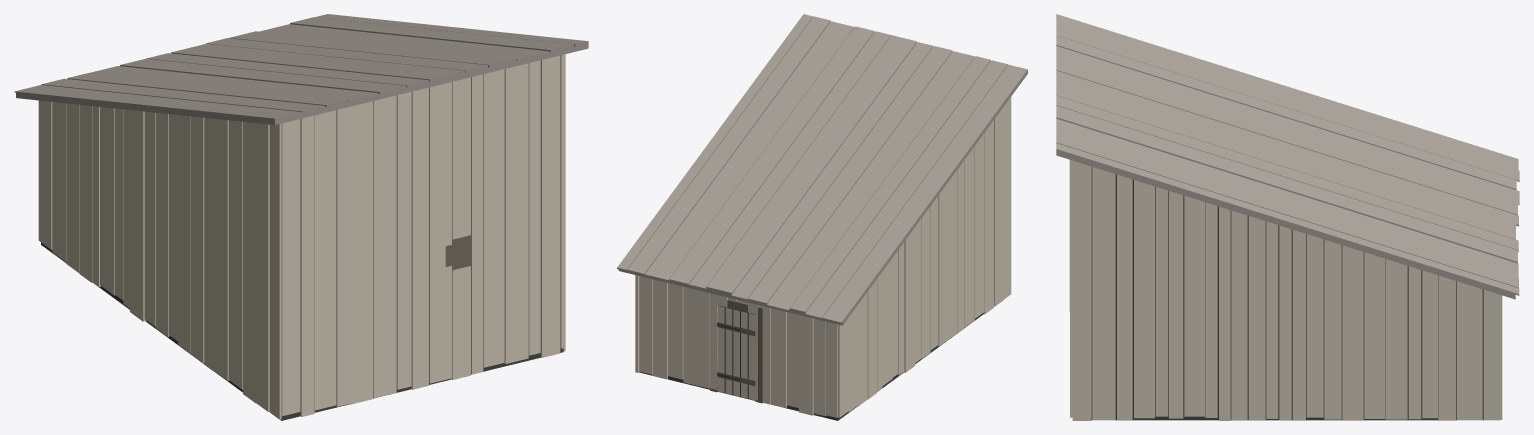
File: recon_1835_blk_west_lake_canal_d2_03__inferred_1835.glb
3 renders of one model, left to right at view 1: azimuth 30°, elevation 25°; view 2: azimuth 150°, elevation 25°; view 3: azimuth 270°, elevation 25°, orthographic. The views are drawn at different scales.
Visible parts, largest first — view 1: recon_1835_blk_west_lake_canal_d2_03__inferred_1835; view 2: recon_1835_blk_west_lake_canal_d2_03__inferred_1835; view 3: recon_1835_blk_west_lake_canal_d2_03__inferred_1835.
Boxes of the visible parts, x1=… form: recon_1835_blk_west_lake_canal_d2_03__inferred_1835: x1=14, y1=14, x2=588, y2=420; recon_1835_blk_west_lake_canal_d2_03__inferred_1835: x1=617, y1=14, x2=1027, y2=420; recon_1835_blk_west_lake_canal_d2_03__inferred_1835: x1=1056, y1=14, x2=1519, y2=420.
Size of the model in its own units: 5.04 by 4.83 by 7.27.
